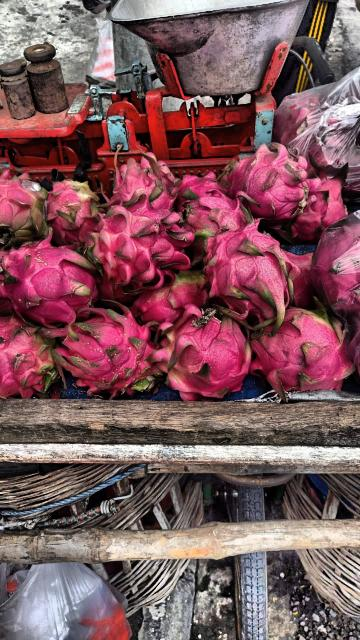buah-naga-belum-matang: (40, 179, 102, 241), (1, 178, 50, 242)
buah-naga-matang: (191, 218, 295, 320), (258, 298, 354, 400), (56, 312, 160, 400), (0, 240, 98, 326), (162, 311, 250, 399), (86, 210, 184, 284), (221, 153, 302, 223), (94, 152, 178, 212), (0, 319, 56, 395)
